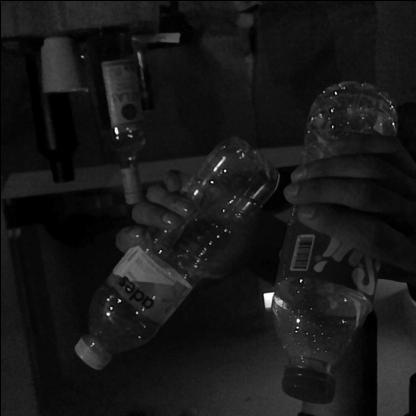plastic_bottles: (70, 135, 280, 371), (270, 79, 396, 407)
